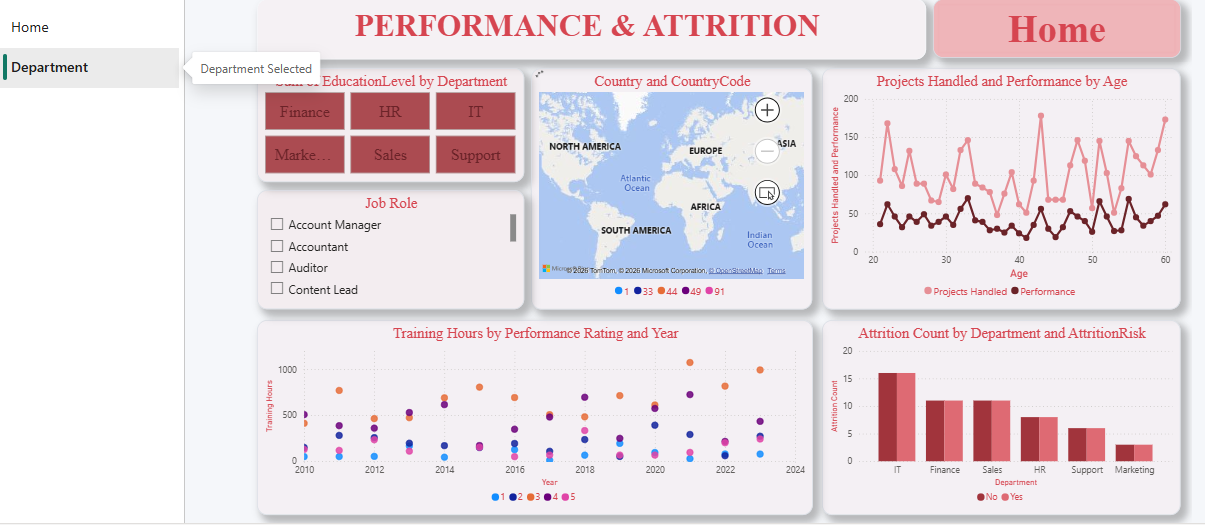

Layout of this report page (visuals, bound fields, positions):
{"tool":"powerbi","page":{"name":"Department","canvas":[1280,720],"ordinal":1},"visuals":[{"type":"textbox","box":[10.2,8.8,908.8,82],"z":0},{"type":"advancedSlicerVisual","fields":{"Values":["employee_performance_pro.Department"]},"box":[10.2,102.4,362.9,155.1],"z":2000},{"type":"lineChart","fields":{"Y":["Sum(employee_performance_pro.ProjectsHandled)","Sum(employee_performance_pro.PerformanceRating)"],"Category":["employee_performance_pro.Age"]},"box":[778.5,102.4,487.3,327.8],"z":3000},{"type":"clusteredColumnChart","fields":{"Y":["employee_performance_pro.Attrition Count"],"Series":["employee_performance_pro.AttritionRisk"],"Category":["employee_performance_pro.Department"]},"box":[778.5,444.9,487.3,264.9],"z":4000},{"type":"filledMap","fields":{"Category":["employee_performance_pro.Country"],"Series":["employee_performance_pro.CountryCode"]},"box":[383.4,102.4,382,327.8],"z":5000},{"type":"scatterChart","fields":{"Y":["Sum(employee_performance_pro.TrainingHours)"],"X":["employee_performance_pro.JoiningDate.Variation.Date Hierarchy.Year","employee_performance_pro.JoiningDate.Variation.Date Hierarchy.Quarter","employee_performance_pro.JoiningDate.Variation.Date Hierarchy.Month","employee_performance_pro.JoiningDate.Variation.Date Hierarchy.Day"],"Series":["employee_performance_pro.PerformanceRating"]},"box":[10.2,444.9,755.1,264.9],"z":6000},{"type":"slicer","title":"Job Role","fields":{"Values":["employee_performance_pro.JobRole"]},"box":[10.2,267.8,362.9,162.4],"z":7000},{"type":"actionButton","box":[929.3,8.8,336.6,80.5],"z":7001}]}

Visuals, with their boxes on the page's 1280x720 design canvas (x1, y1, x2, y2). These are canvas units, not pixel positions in the 1205x525 screenshot, which may show the page scaled, cropped or inside an application window:
textbox: 10,9,919,91
advancedSlicerVisual - employee_performance_pro.Department: 10,102,373,258
lineChart - Sum(employee_performance_pro.ProjectsHandled) x Sum(employee_performance_pro.PerformanceRating): 778,102,1266,430
clusteredColumnChart - employee_performance_pro.Attrition Count x employee_performance_pro.AttritionRisk: 778,445,1266,710
filledMap - employee_performance_pro.Country x employee_performance_pro.CountryCode: 383,102,765,430
scatterChart - Sum(employee_performance_pro.TrainingHours) x employee_performance_pro.JoiningDate.Variation.Date Hierarchy.Year: 10,445,765,710
"Job Role" slicer: 10,268,373,430
actionButton: 929,9,1266,89
